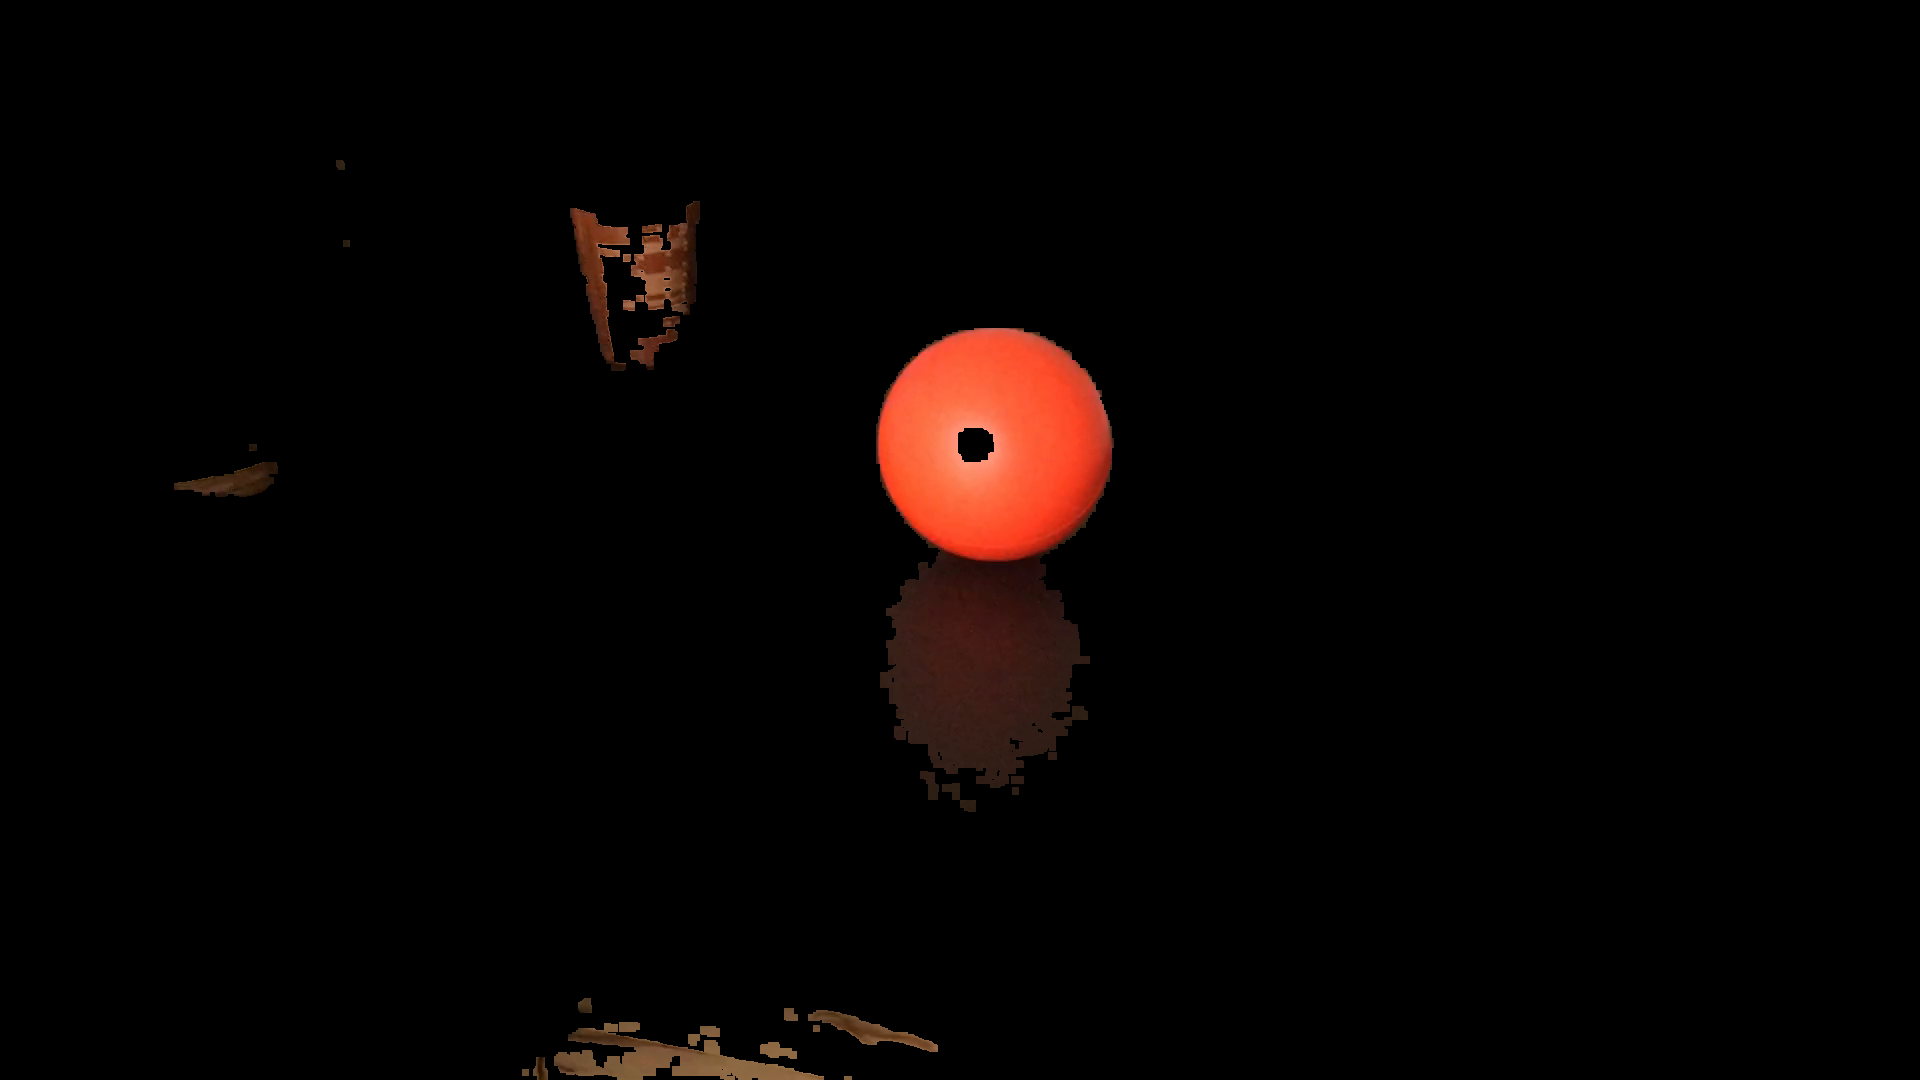Ball: (865, 322, 1120, 564)
